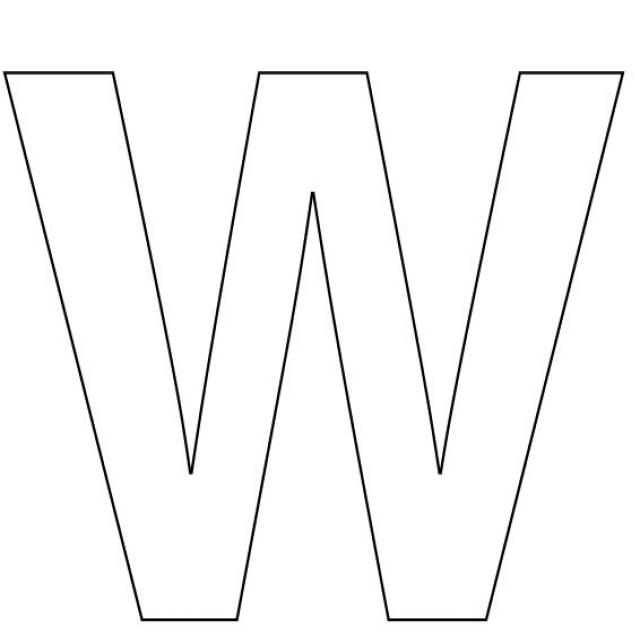W: (1, 20, 624, 635)
